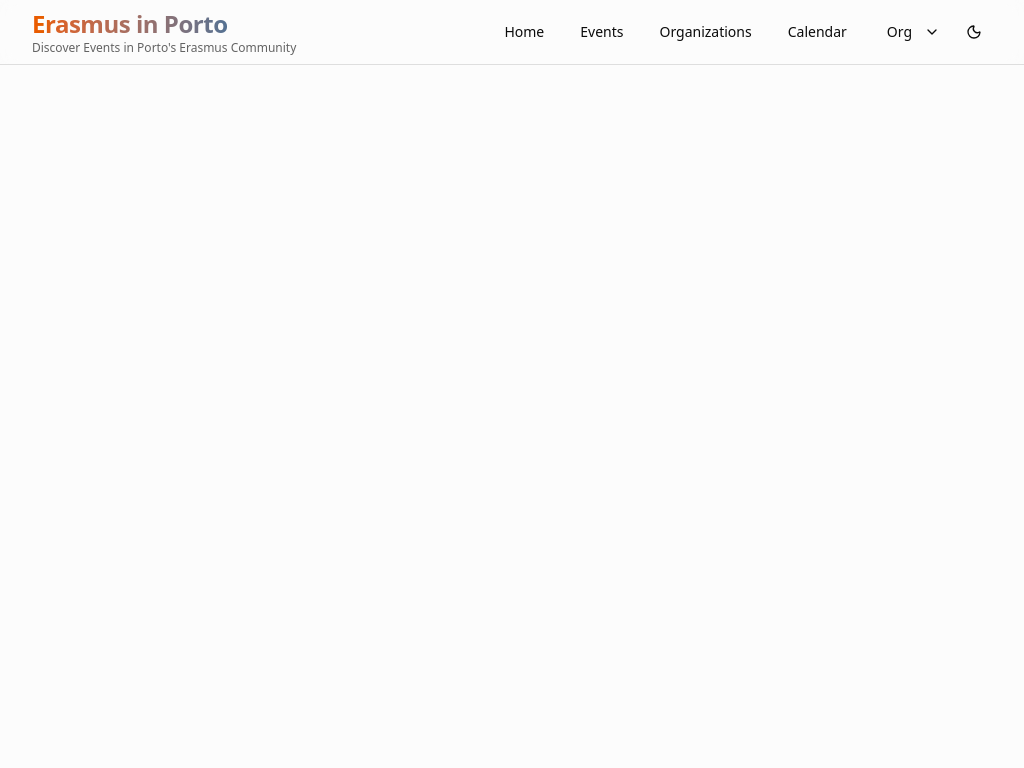
it: Navbar Component › Authenticated state › should show My Organizations button for ORGANIZER role
Note: Wait for the user button to appear, then click it to open the dropdown
Click the button "Org": x=913, y=32 [875, 14, 952, 50]
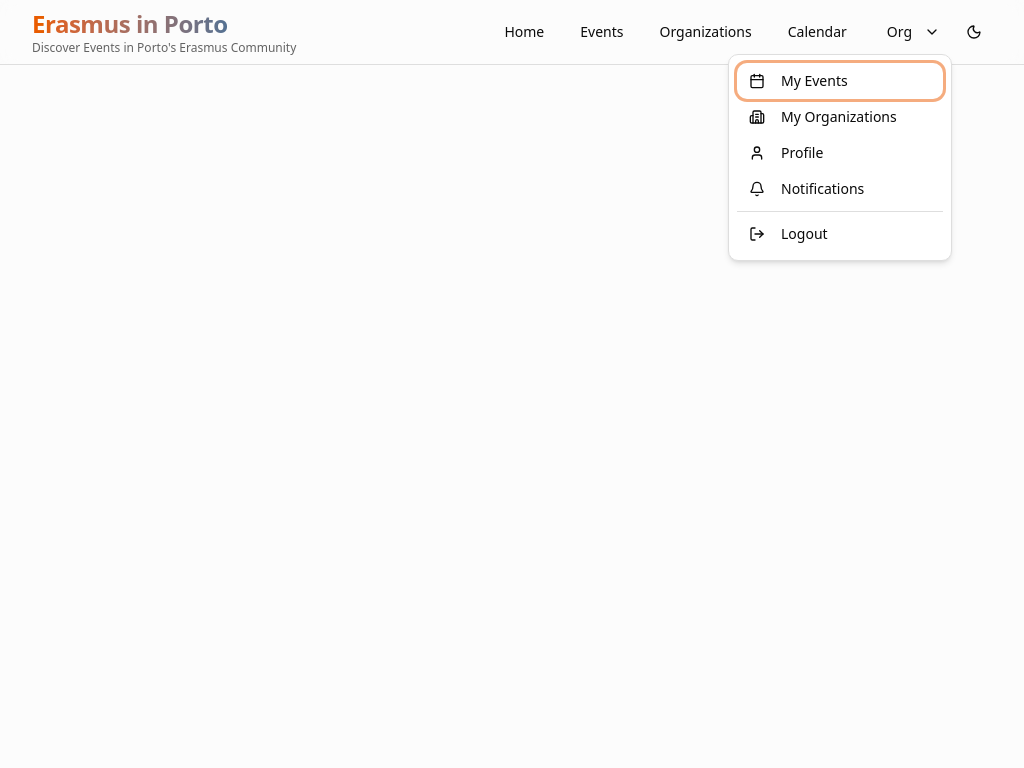
Check: the button "My Organizations" is shown, box [737, 99, 943, 135]
Check: the button "My Events" is shown, box [737, 63, 943, 99]
Check: the button "Profile" is shown, box [737, 135, 943, 171]
